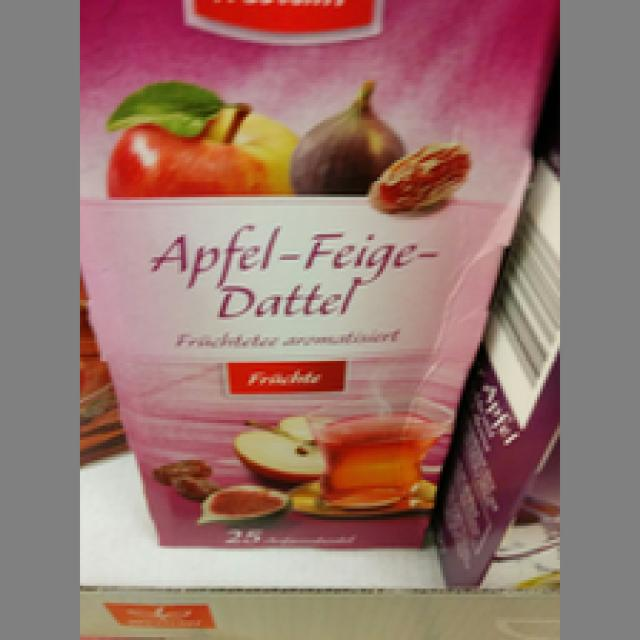groceries: (77, 0, 549, 546)
